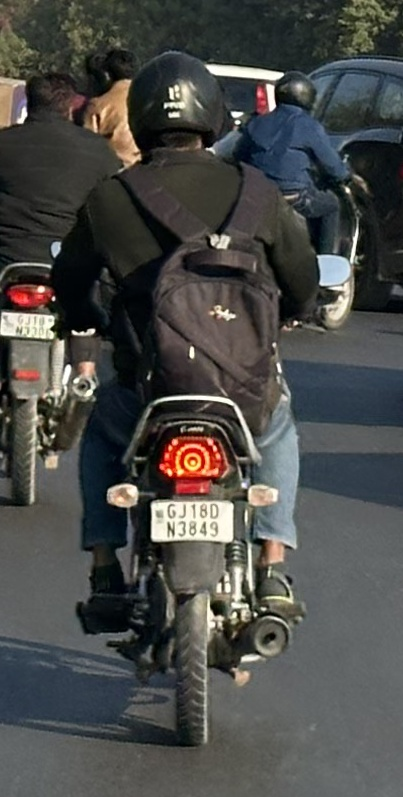BikeWithRider: (69, 52, 354, 752), (0, 64, 126, 507), (233, 66, 377, 335)
Helmet: (126, 57, 229, 155), (271, 72, 320, 117)
NoHelmet: (21, 68, 75, 124)
